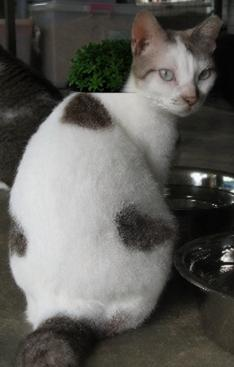cat: (7, 10, 220, 367)
pottedplant: (67, 39, 136, 92)
